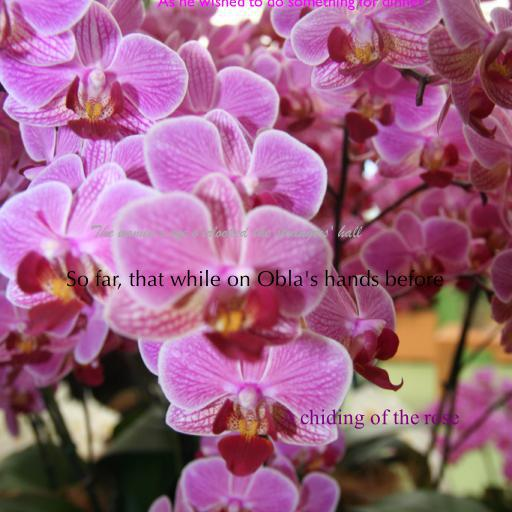Brush Script MT: (89, 224, 361, 242)
Gill Sans: (158, 0, 424, 11)
Optima: (66, 269, 444, 290)
Times New Roman: (281, 409, 459, 429)
